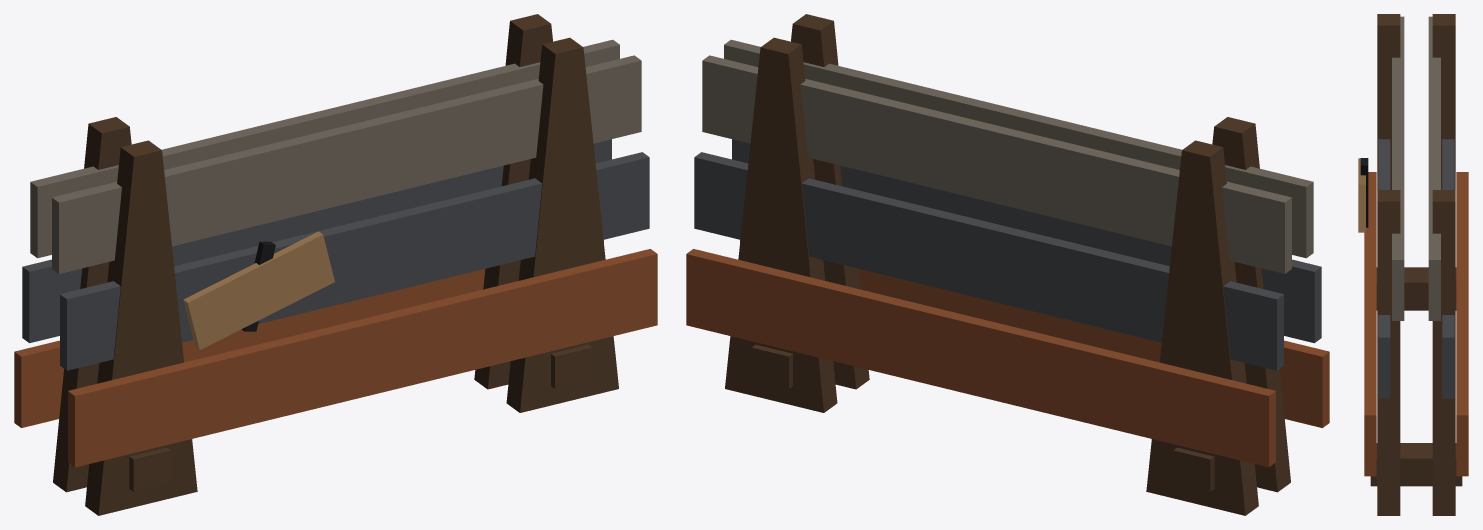
File: piece_barricade_damaged.fbx
3 views of the same model, side by side, from view 1: azimuth 30°, elevation 25°; view 2: azimuth 150°, elevation 25°; view 3: azimuth 270°, elevation 25° (orthographic). The views are drawn at different scales.
Parts seen in each view (by area): view 1: piece_barricade_damaged; view 2: piece_barricade_damaged; view 3: piece_barricade_damaged.
Part boxes in pixels (bbox=[...]): piece_barricade_damaged: bbox=[14, 14, 657, 515]; piece_barricade_damaged: bbox=[686, 14, 1329, 515]; piece_barricade_damaged: bbox=[1358, 14, 1468, 515].
Size of the model in its own units: 1.88 by 1.08 by 0.3595.
